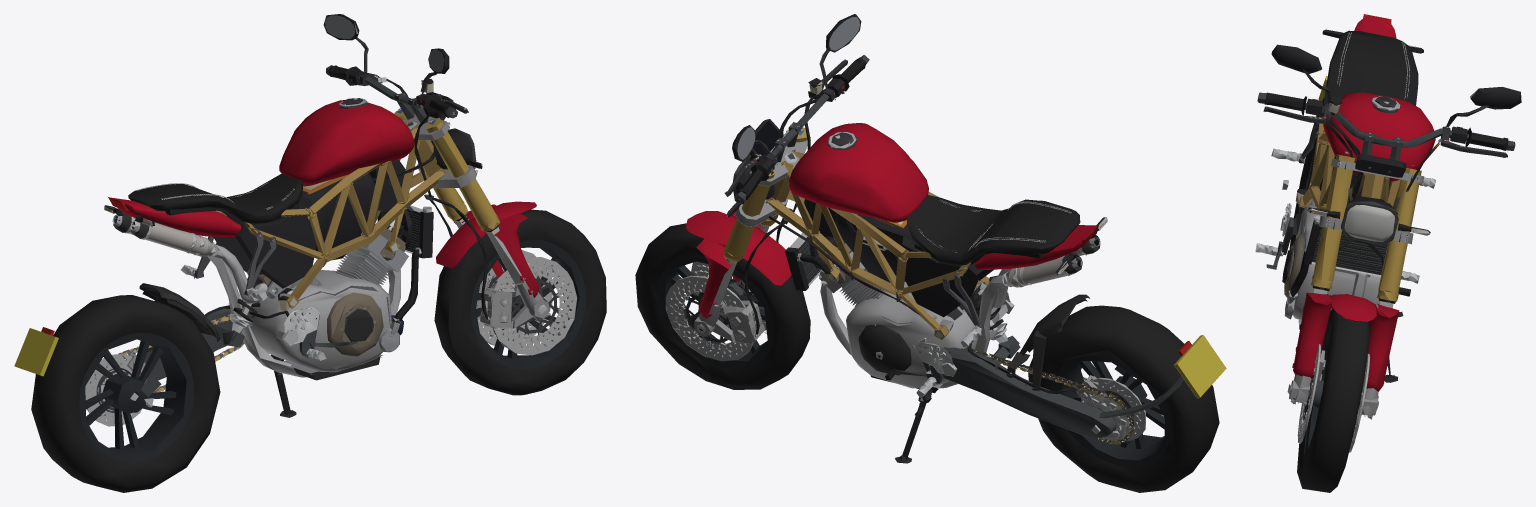
The model's file is SM_Prop_house_bike_7.glb.
The picture shows the model from 3 angles, left to right: view 1: azimuth 30°, elevation 25°; view 2: azimuth 150°, elevation 25°; view 3: azimuth 270°, elevation 25°; orthographic projection. The views are drawn at different scales.
Parts seen in each view (by area): view 1: SM_Prop_house_bike_7; view 2: SM_Prop_house_bike_7; view 3: SM_Prop_house_bike_7.
Part boxes in pixels (x1=…): SM_Prop_house_bike_7: x1=14, y1=14, x2=606, y2=492; SM_Prop_house_bike_7: x1=635, y1=14, x2=1226, y2=492; SM_Prop_house_bike_7: x1=1255, y1=14, x2=1521, y2=492.
Bounding box in the file's own units: 2.12 × 1.33 × 0.8289.
